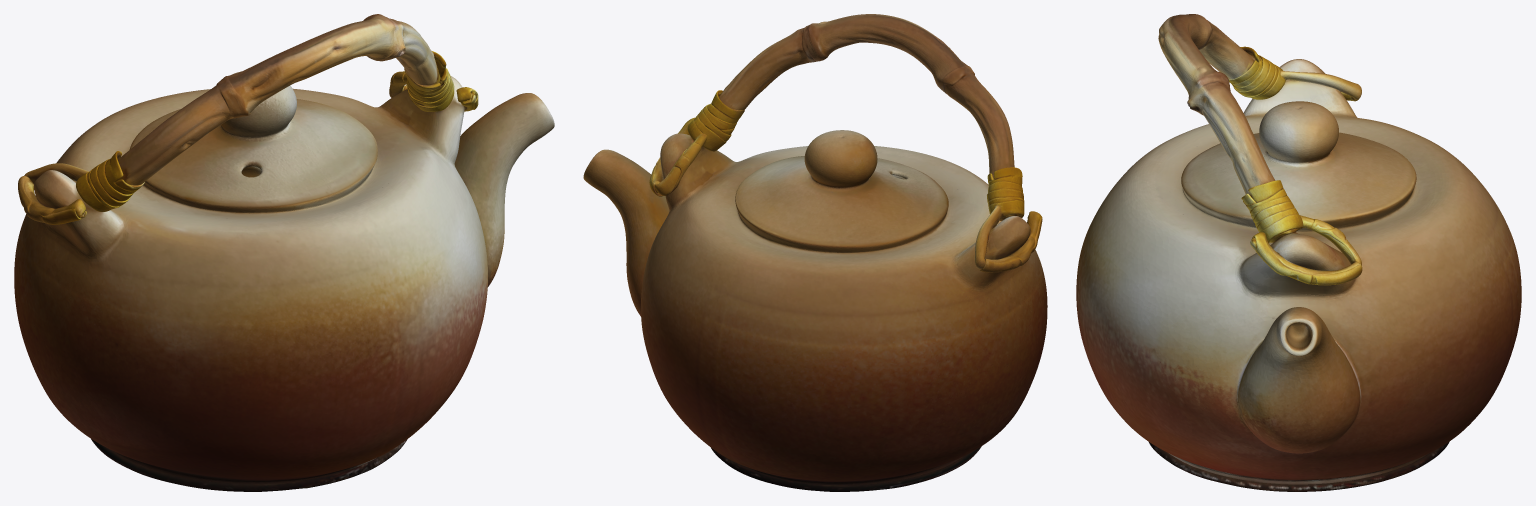
Rendered from zishahu.glb.
3 views of the same model, side by side, from view 1: azimuth 30°, elevation 25°; view 2: azimuth 150°, elevation 25°; view 3: azimuth 270°, elevation 25° (orthographic). The views are drawn at different scales.
Parts seen in each view (by area): view 1: zishahu; view 2: zishahu; view 3: zishahu.
Part boxes in pixels (box(x1,y1,x2,y2)): zishahu: box(14, 14, 554, 491); zishahu: box(583, 14, 1047, 491); zishahu: box(1076, 14, 1521, 491).
Bounding box in the file's own units: 0.3284 × 0.2648 × 0.262.
Materials: 1 (1 with a texture image).
